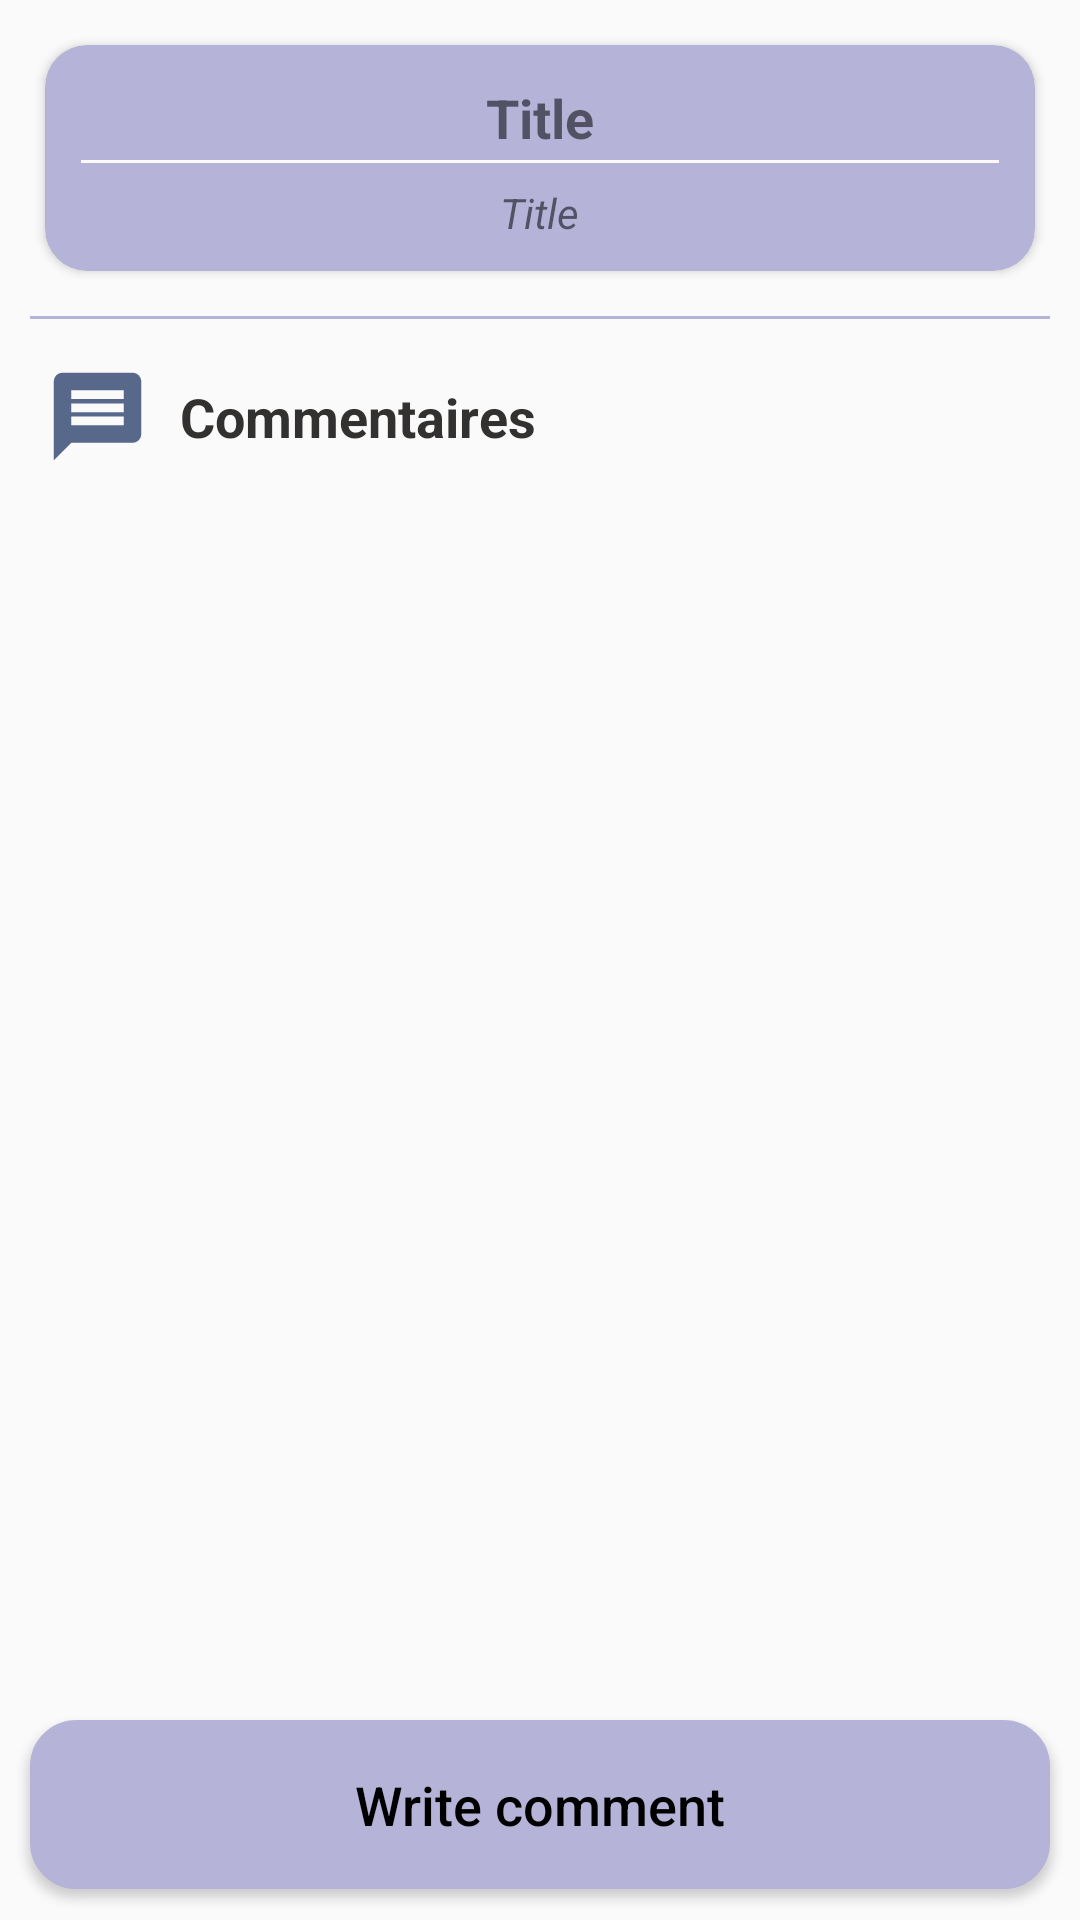

Where icons sit on this 1080x1920 app screen, as Rect(x1, y1, x2, y2):
message: Rect(53, 372, 142, 460)
